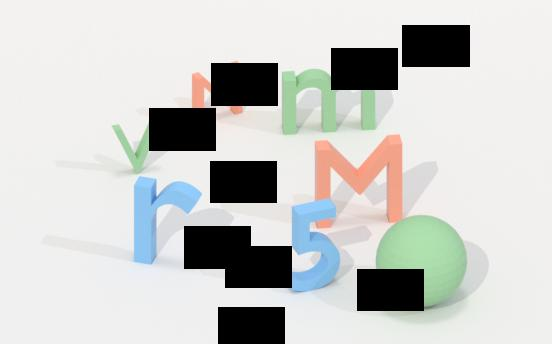5: (284, 197, 342, 294)
M-hoa: (312, 133, 406, 231), (189, 58, 245, 129)
R: (130, 171, 205, 271)
cau: (374, 213, 469, 311)
m: (279, 64, 380, 139)
v: (110, 116, 164, 177)
